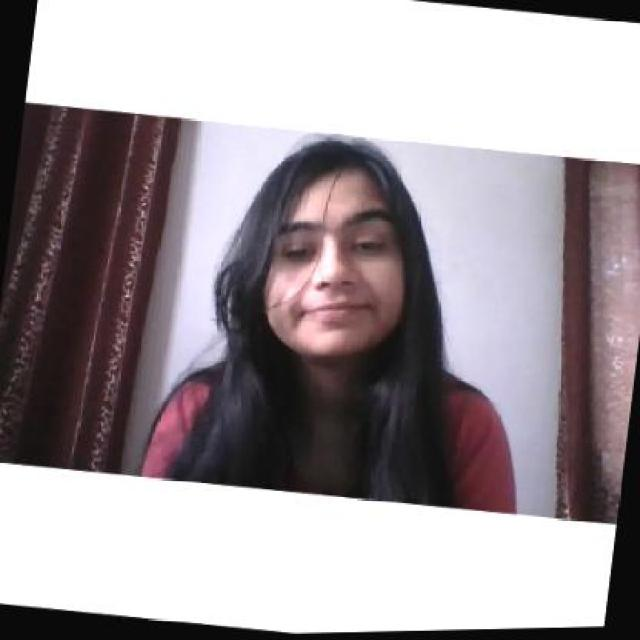attentif: (255, 134, 422, 368)
